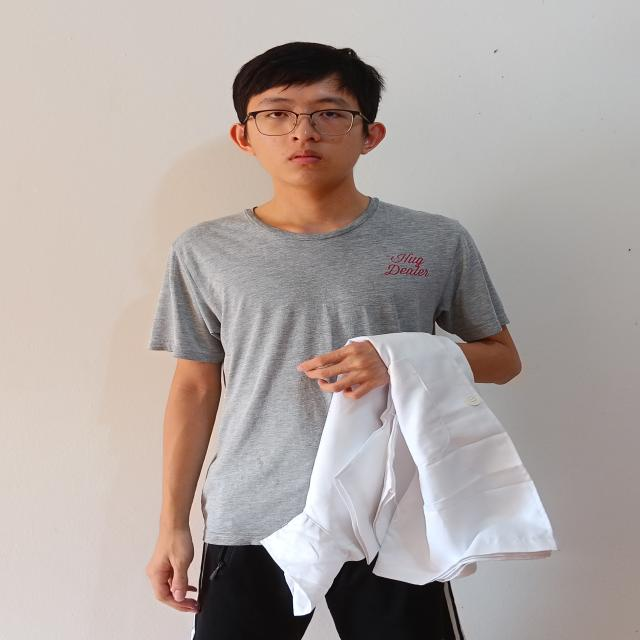person_without_labcoat: (149, 43, 556, 640)
